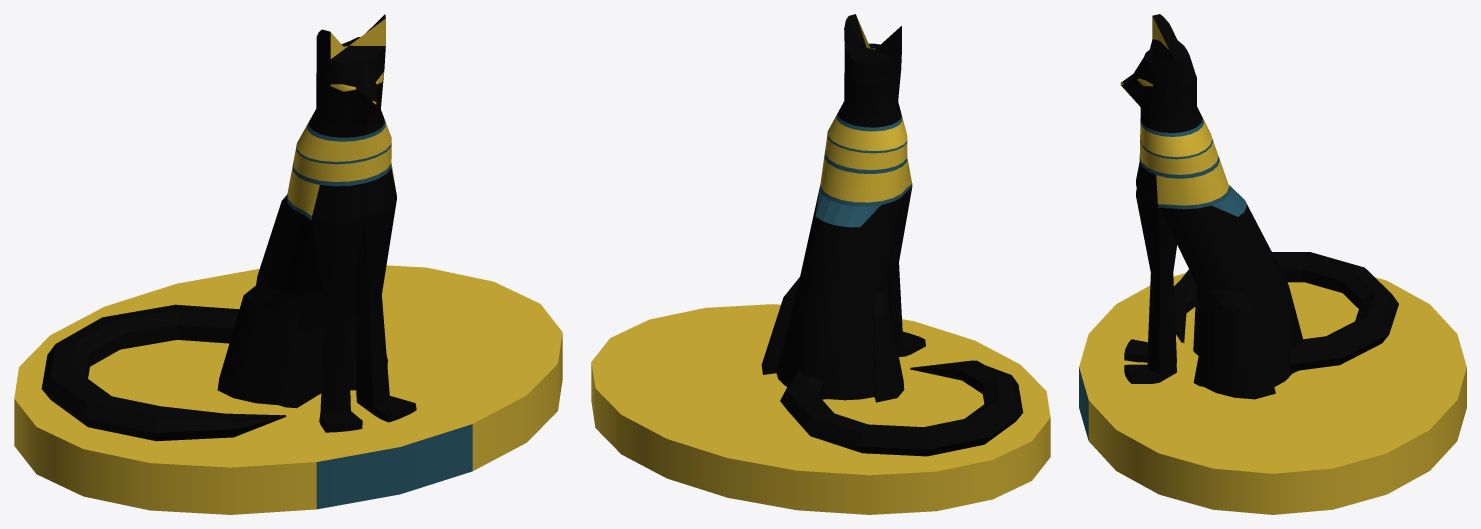
The model's file is Egyptian Cat Statue.fbx.
The picture shows the model from 3 angles, left to right: view 1: azimuth 30°, elevation 25°; view 2: azimuth 150°, elevation 25°; view 3: azimuth 270°, elevation 25°; orthographic projection. The views are drawn at different scales.
Visible parts, largest first — view 1: pTorus1; view 2: pTorus1; view 3: pTorus1.
Boxes of the visible parts, x1,y1,x2,y2 form: pTorus1: (14, 14, 562, 514); pTorus1: (591, 14, 1050, 514); pTorus1: (1079, 14, 1466, 514).
Size of the model in its own units: 22151 by 18414 by 16990.
